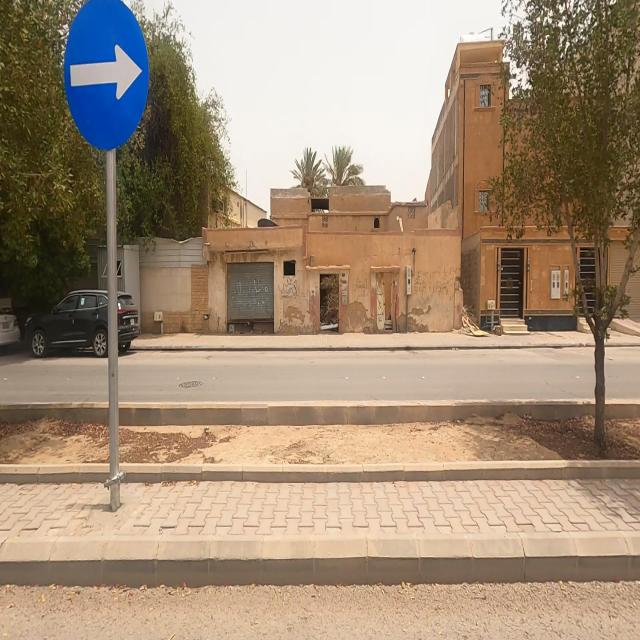Graffiti: (231, 280, 272, 317), (416, 270, 454, 300), (278, 278, 310, 305), (354, 278, 370, 301)
